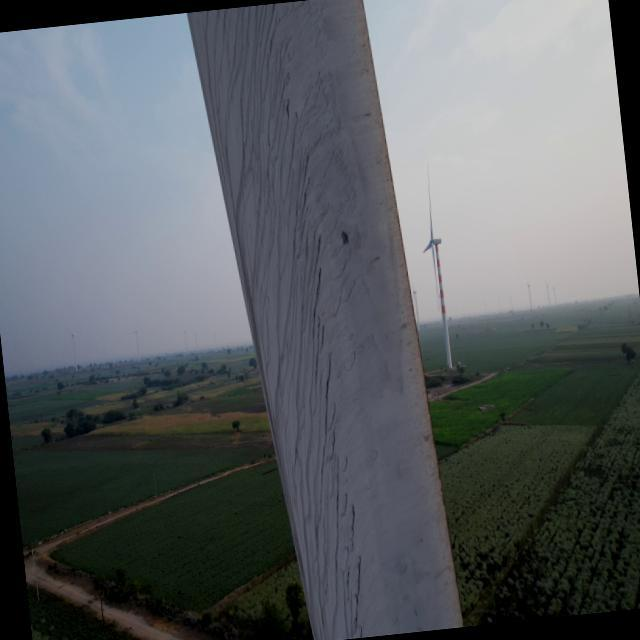Dirt: (175, 2, 465, 640)
